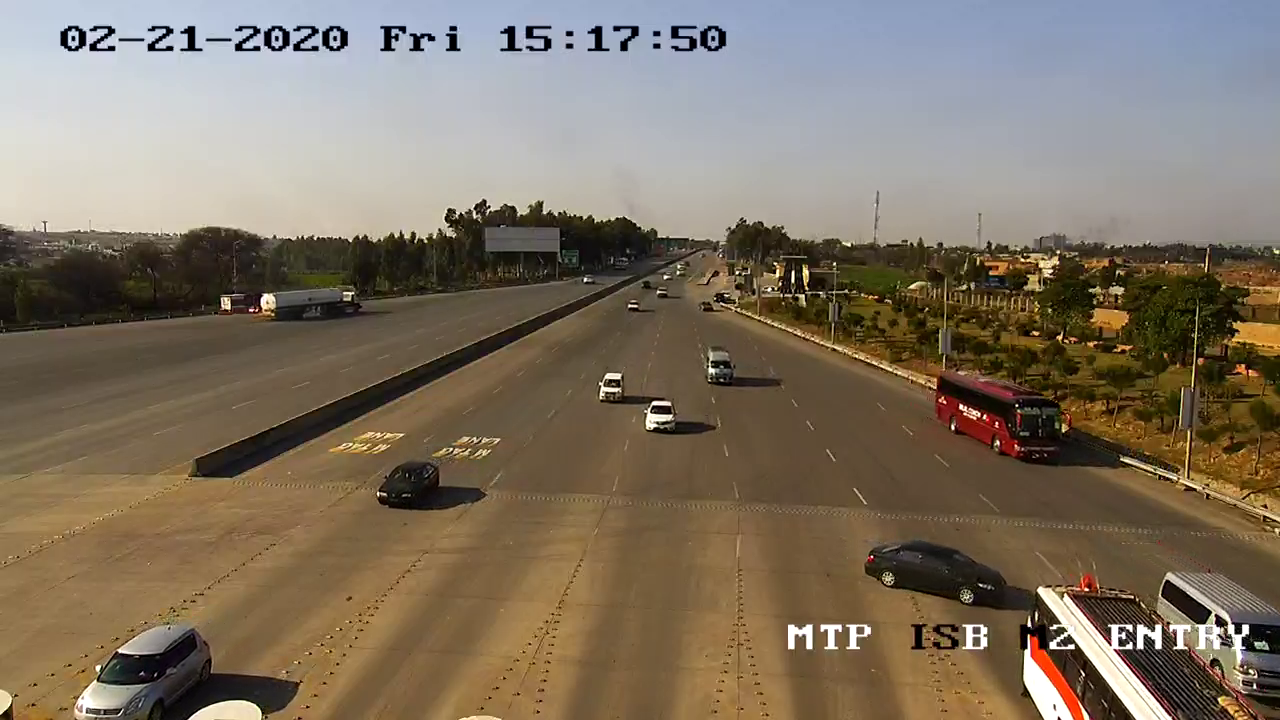f1: (68, 616, 216, 720), (861, 524, 1015, 614), (371, 453, 445, 515), (640, 393, 682, 443)
f4: (925, 363, 1080, 474)
